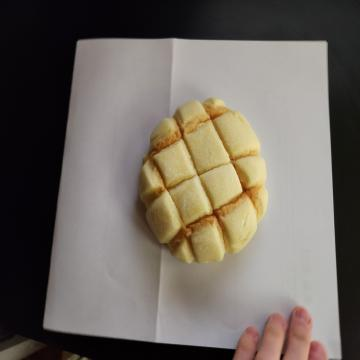melon_bread: (139, 96, 268, 266)
